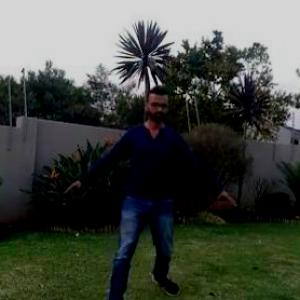land: (67, 79, 247, 299)
